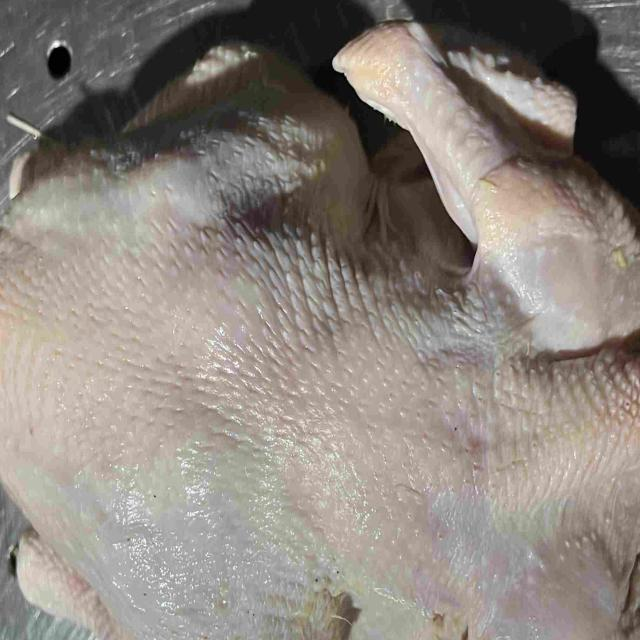back: (0, 220, 531, 584)
leg: (9, 46, 373, 220), (14, 521, 355, 640)
wing: (327, 14, 640, 358), (456, 548, 640, 640)
